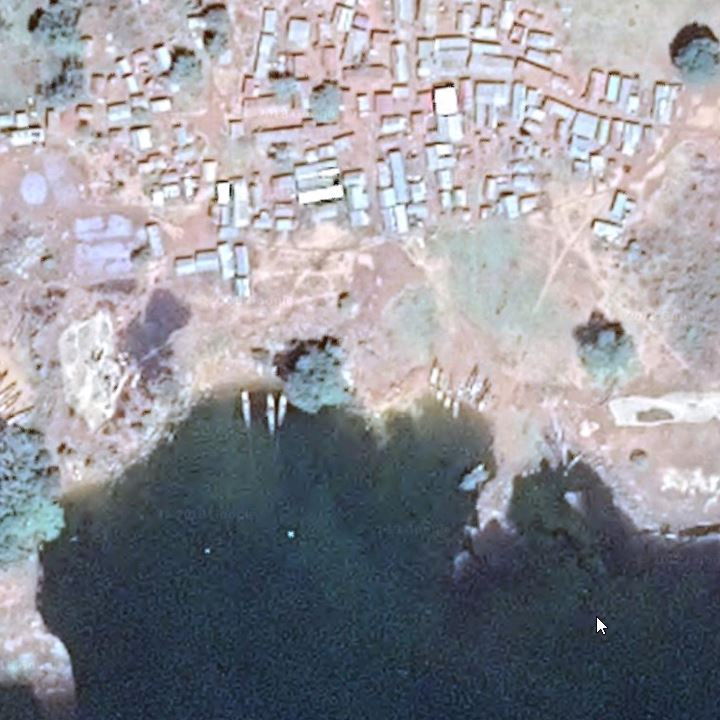boat: (262, 387, 279, 439), (238, 383, 255, 433), (275, 396, 293, 434), (465, 356, 482, 396), (425, 352, 442, 392), (477, 383, 496, 418), (559, 426, 572, 470), (441, 383, 455, 417), (452, 386, 465, 422), (432, 382, 447, 403)
